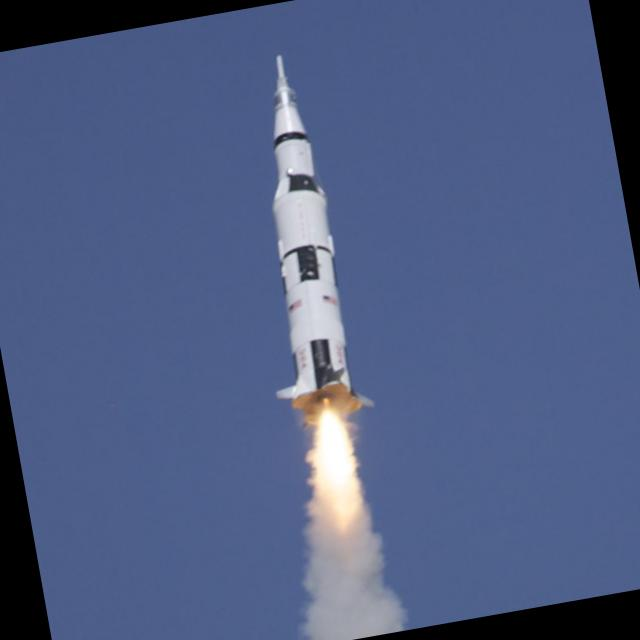rocket: (212, 44, 389, 537)
